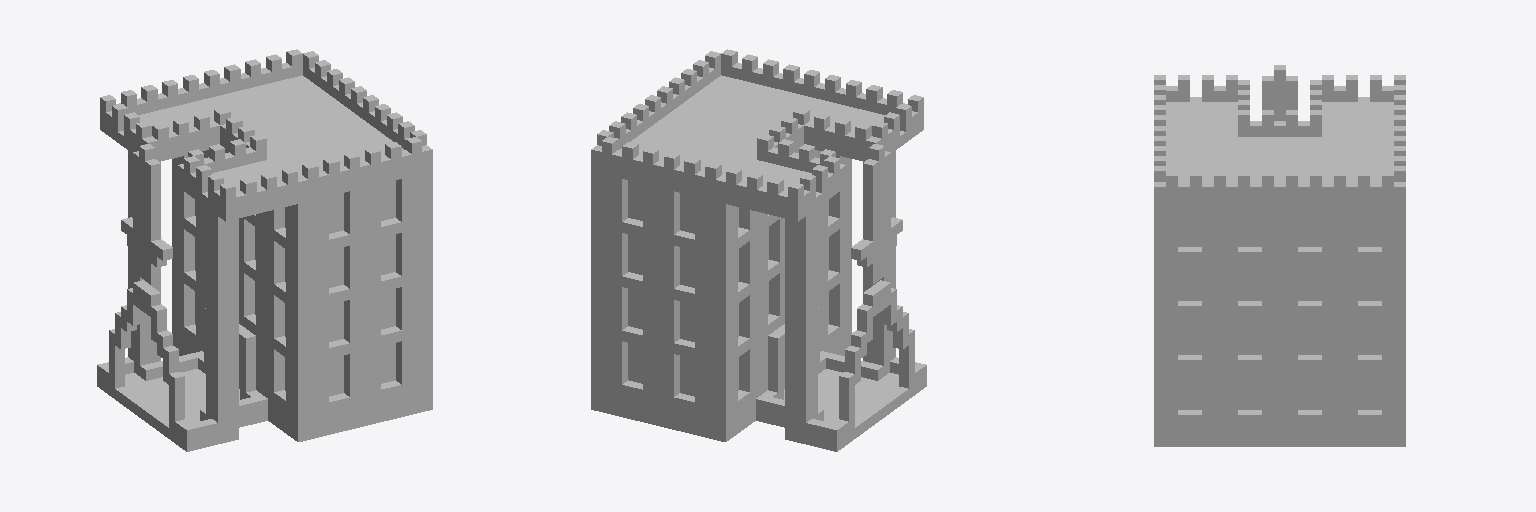
File: barracks.obj
3 renders of one model, left to right at view 1: azimuth 30°, elevation 25°; view 2: azimuth 150°, elevation 25°; view 3: azimuth 270°, elevation 25°, orthographic.
Visible parts, largest first — view 1: object 1; view 2: object 1; view 3: object 1.
Part boxes in pixels (bbox=[...]): object 1: bbox=[97, 49, 432, 451]; object 1: bbox=[591, 49, 926, 451]; object 1: bbox=[1154, 65, 1405, 446].
Size of the model in its own units: 2.2 by 2.5 by 2.1.